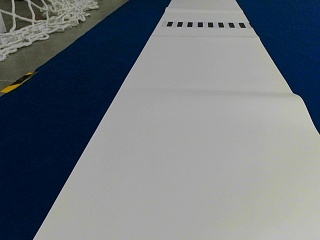crosswalk: (167, 20, 245, 28)
